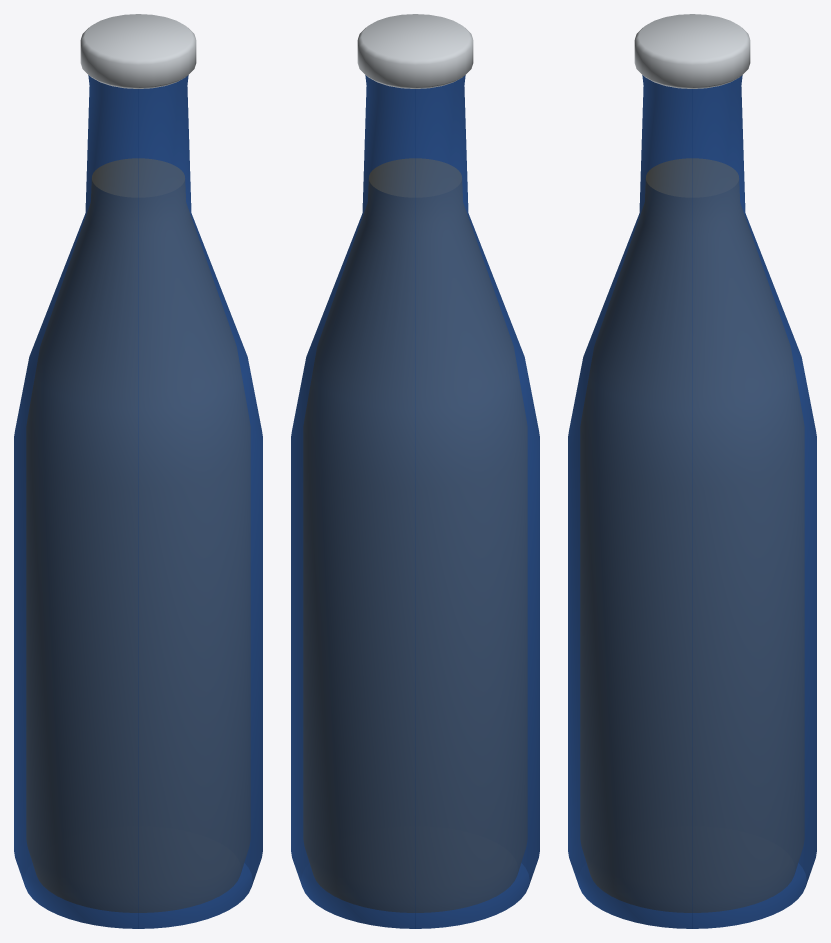
File: longneck-vidro_azul.glb
The picture shows the model from 3 angles, left to right: view 1: azimuth 30°, elevation 25°; view 2: azimuth 150°, elevation 25°; view 3: azimuth 270°, elevation 25°; orthographic projection.
Visible parts, largest first — view 1: longneck-vidro_azul; view 2: longneck-vidro_azul; view 3: longneck-vidro_azul.
Boxes of the visible parts, x1,y1,x2,y2 form: longneck-vidro_azul: (14,14,262,928); longneck-vidro_azul: (291,14,539,928); longneck-vidro_azul: (568,14,816,928).
Bounding box in the file's own units: 0.061 × 0.2282 × 0.061.
